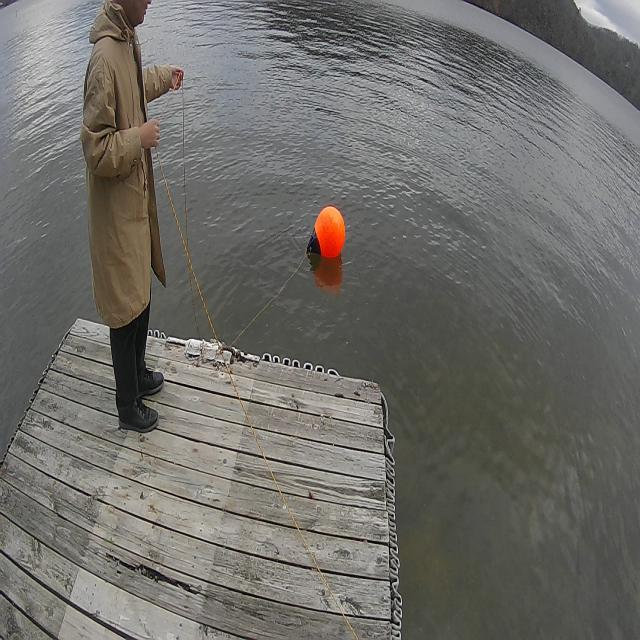Buoy: (306, 200, 346, 270)
